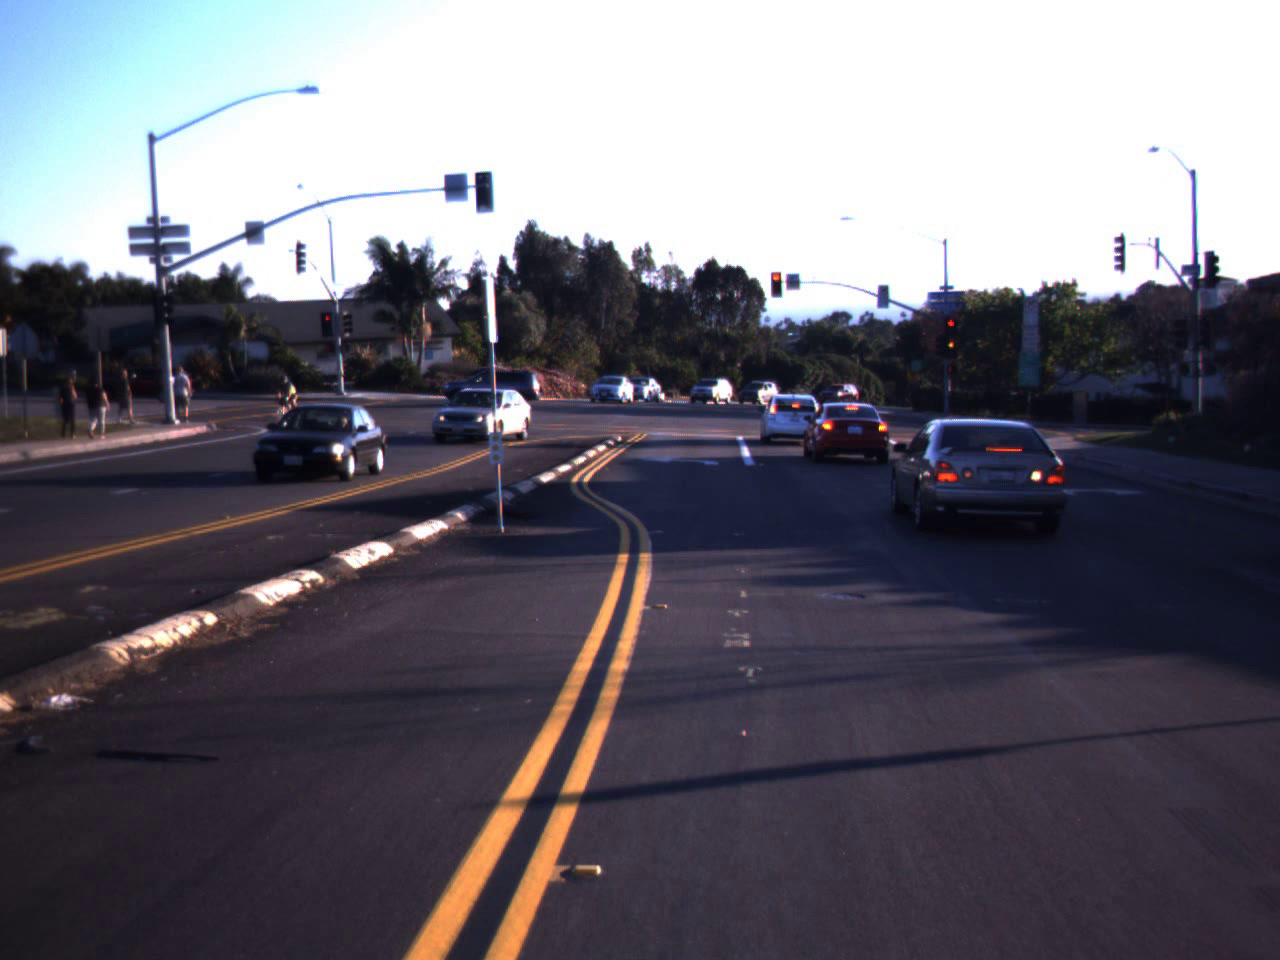stop: (767, 271, 785, 298), (942, 318, 960, 340), (321, 314, 333, 332)
